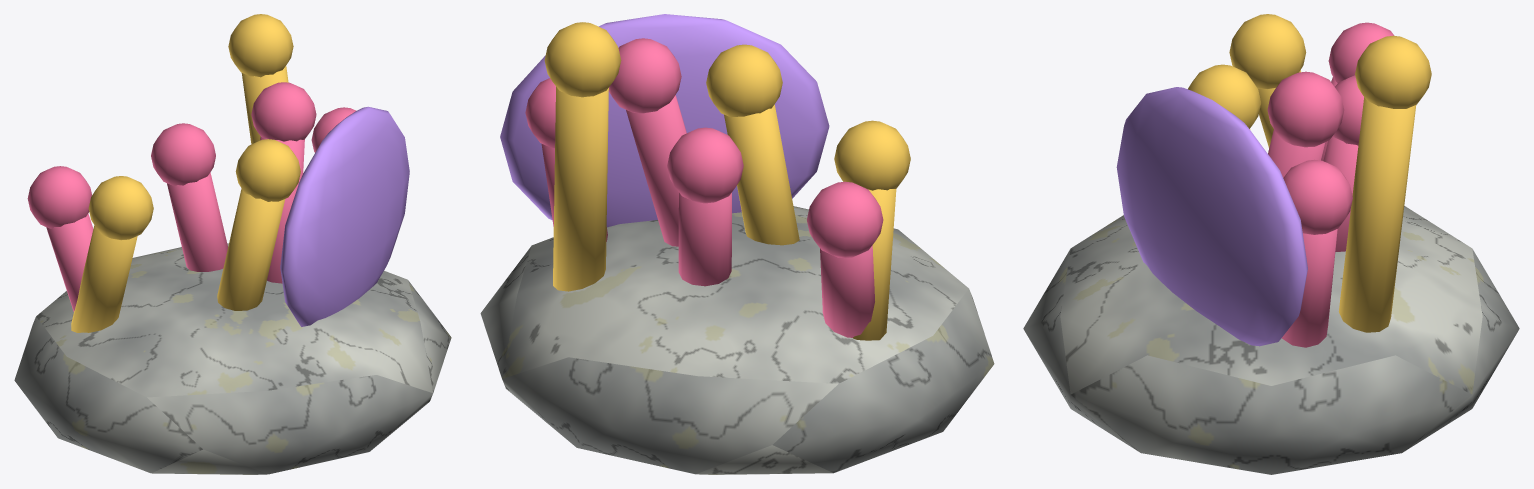
The model's file is coral0.glb.
3 renders of one model, left to right at view 1: azimuth 30°, elevation 25°; view 2: azimuth 150°, elevation 25°; view 3: azimuth 270°, elevation 25°, orthographic. The views are drawn at different scales.
Visible parts, largest first — view 1: coral0; view 2: coral0; view 3: coral0.
Boxes of the visible parts, <box> form: coral0: <box>14,14,451,474</box>; coral0: <box>480,14,994,474</box>; coral0: <box>1023,14,1519,474</box>.
Bounding box in the file's own units: 0.8591 × 0.8057 × 0.84.
4 materials, 1 textured.
